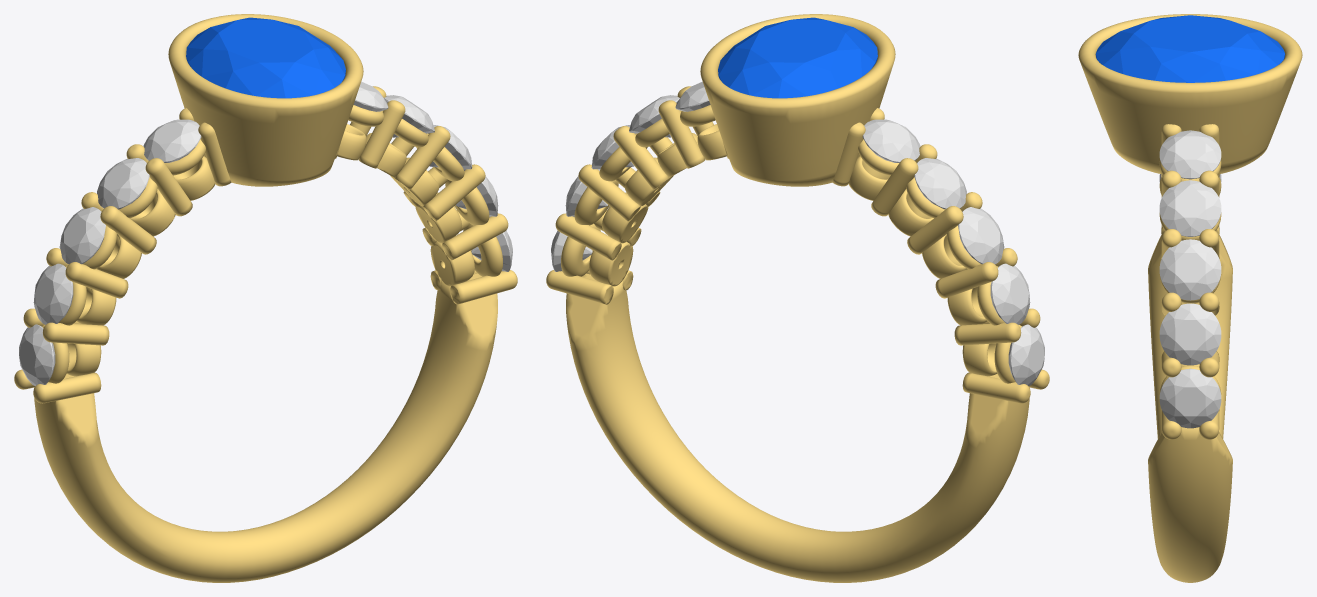
Rendered from bluesapphire-oval-yellowgold-bezelset-taperedband-11stone.glb.
The picture shows the model from 3 angles, left to right: view 1: azimuth 30°, elevation 25°; view 2: azimuth 150°, elevation 25°; view 3: azimuth 270°, elevation 25°; orthographic projection.
Parts seen in each view (by area): view 1: metal, stone.002, side.022, side.023, side.024, side.021, side.020, side.028, side.029; view 2: metal, stone.002, side.022, side.023, side.024, side.021, side.020, side.028, side.029; view 3: metal, stone.002, side.026, side.027, side.025, side.028, side.029.
Boxes of the visible parts, <box> form: metal: <box>14,14,517,582</box>; stone.002: <box>186,17,345,98</box>; side.022: <box>59,207,105,264</box>; side.023: <box>97,158,149,209</box>; side.024: <box>143,119,201,162</box>; side.021: <box>33,263,73,324</box>; side.020: <box>19,324,55,386</box>; side.028: <box>384,95,434,137</box>; side.029: <box>349,81,388,120</box>; metal: <box>546,14,1049,582</box>; stone.002: <box>718,17,877,98</box>; side.022: <box>958,207,1004,264</box>; side.023: <box>914,158,966,209</box>; side.024: <box>862,119,920,162</box>; side.021: <box>990,263,1030,324</box>; side.020: <box>1008,324,1044,386</box>; side.028: <box>629,95,679,137</box>; side.029: <box>675,81,714,120</box>; metal: <box>1078,14,1302,582</box>; stone.002: <box>1095,15,1285,82</box>; side.026: <box>1159,303,1221,365</box>; side.027: <box>1159,239,1221,300</box>; side.025: <box>1159,368,1221,428</box>; side.028: <box>1159,180,1221,236</box>; side.029: <box>1159,130,1221,179</box>.
Size of the model in its own units: 22.05 by 23.4 by 9.04.
